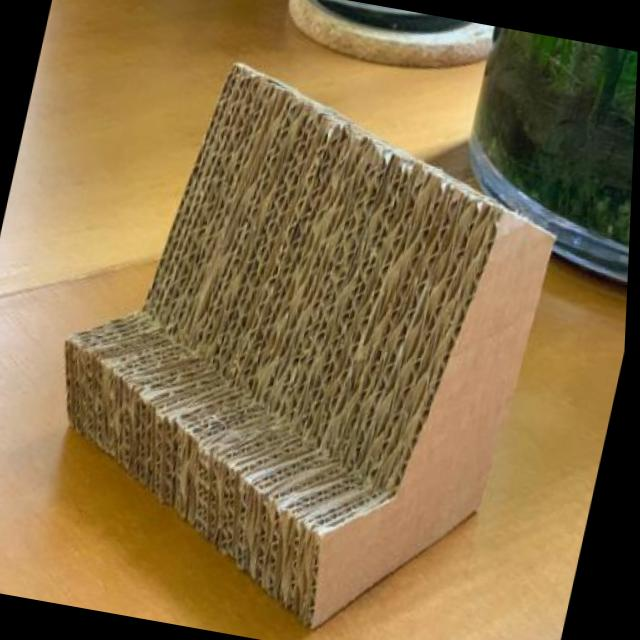box: (11, 25, 609, 634)
